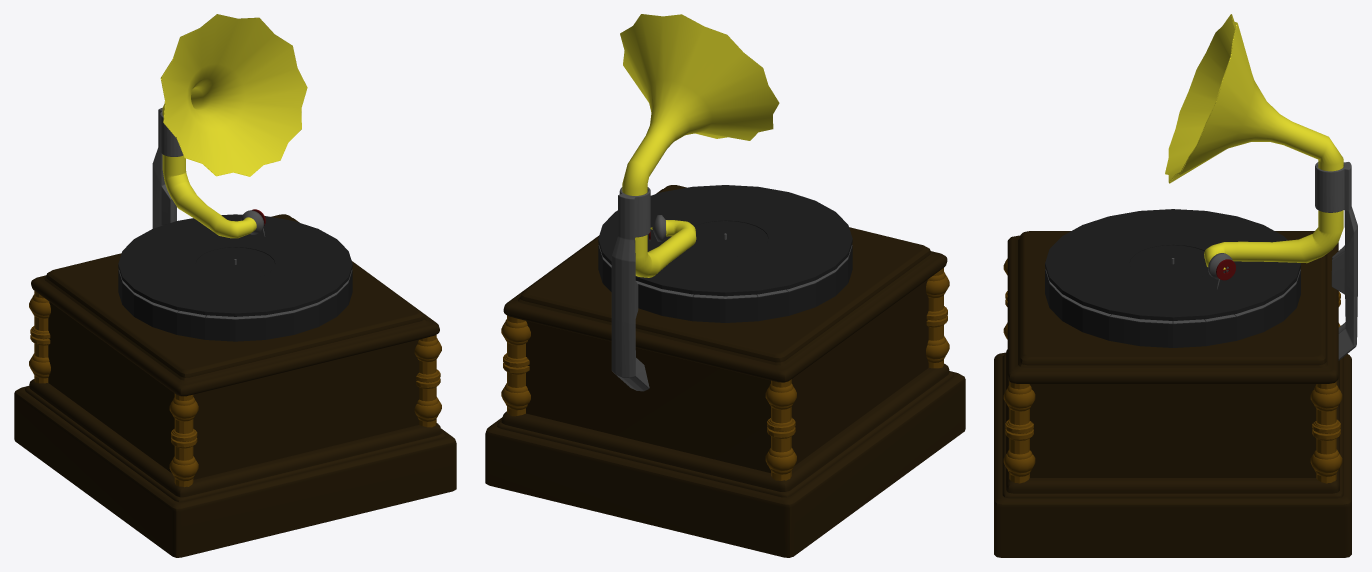
Rendered from RecordPlayer.fbx.
3 renders of one model, left to right at view 1: azimuth 30°, elevation 25°; view 2: azimuth 150°, elevation 25°; view 3: azimuth 270°, elevation 25°, orthographic. The views are drawn at different scales.
Visible parts, largest first — view 1: RecordPlayer1; view 2: RecordPlayer1; view 3: RecordPlayer1.
Boxes of the visible parts, <box> form: RecordPlayer1: <box>14,14,456,557</box>; RecordPlayer1: <box>485,14,965,557</box>; RecordPlayer1: <box>994,14,1357,557</box>.
Bounding box in the file's own units: 0.531 × 0.7622 × 0.5396.
